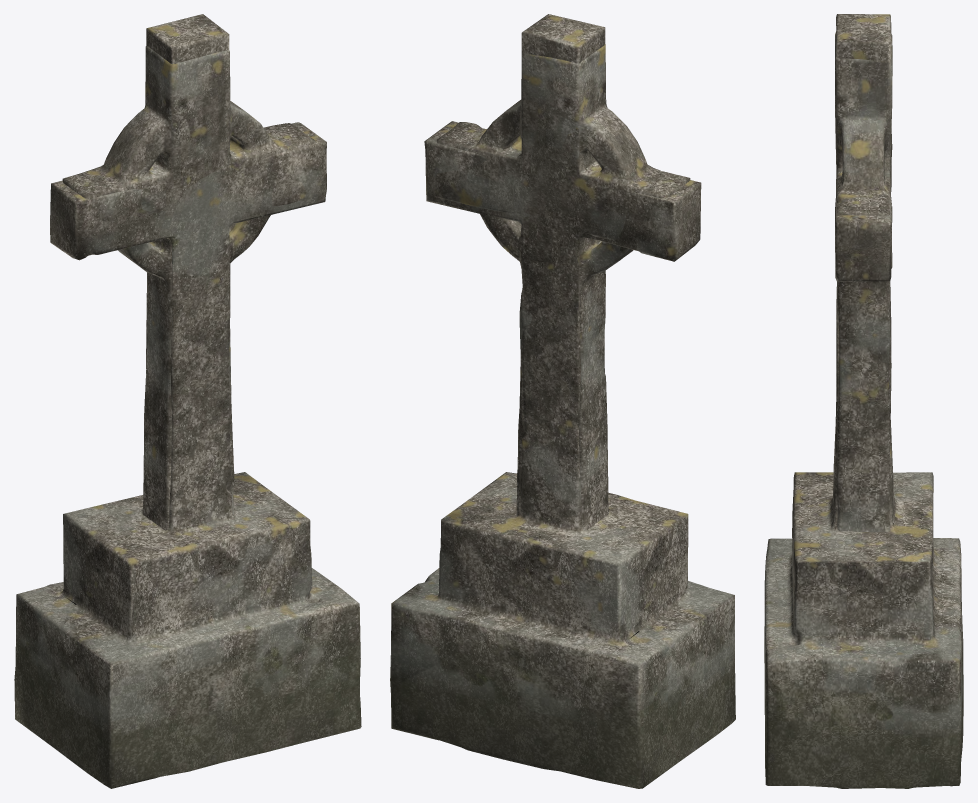
File: cross.glb
3 views of the same model, side by side, from view 1: azimuth 30°, elevation 25°; view 2: azimuth 150°, elevation 25°; view 3: azimuth 270°, elevation 25° (orthographic).
Parts seen in each view (by area): view 1: cross_a, cross_b; view 2: cross_a, cross_b; view 3: cross_a, cross_b.
Part boxes in pixels (x1,y1,x2,y2): cross_a: (14,14,361,788); cross_b: (62,46,315,530); cross_a: (390,14,735,788); cross_b: (434,44,690,530); cross_a: (764,14,963,788); cross_b: (835,31,892,532).
Bounding box in the file's own units: 0.7292 × 1.9 × 0.4912.
1 material, 1 textured.
